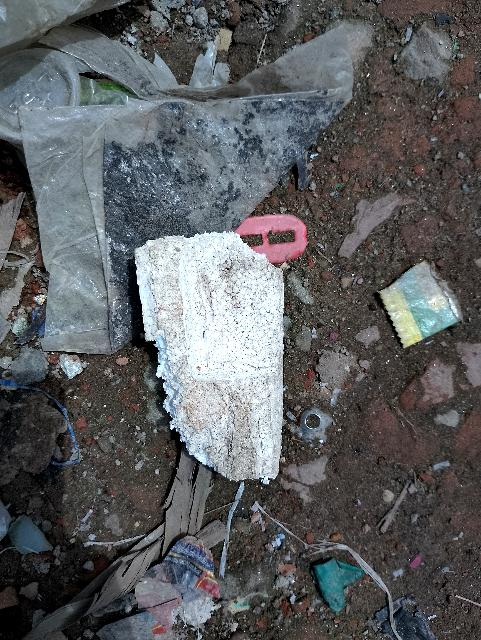cocksheet: (128, 239, 289, 487)
